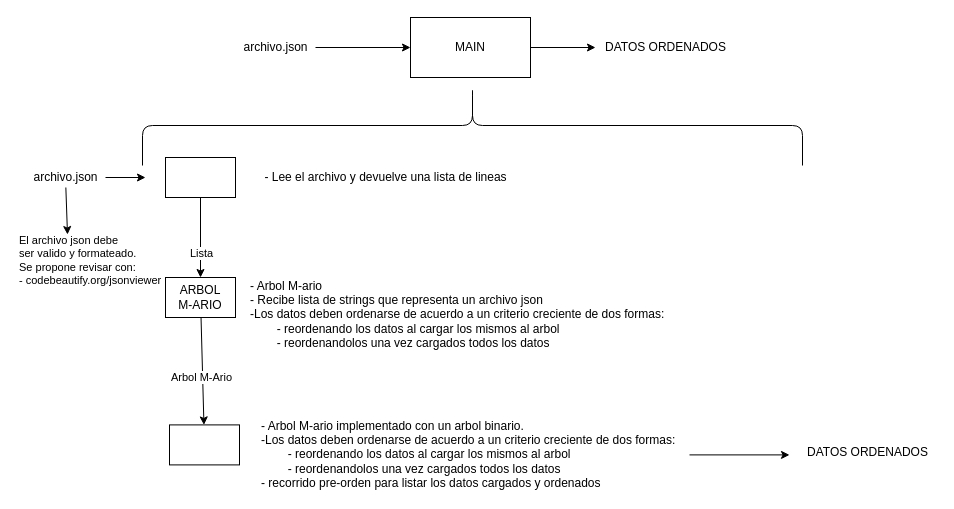
Some shapes in this 954 by 509 pixel diagram are drawn without their labels. Each missing label, with the centre of its shape:
Arbol Binario: (204,444)
LECTOR: (200,177)
